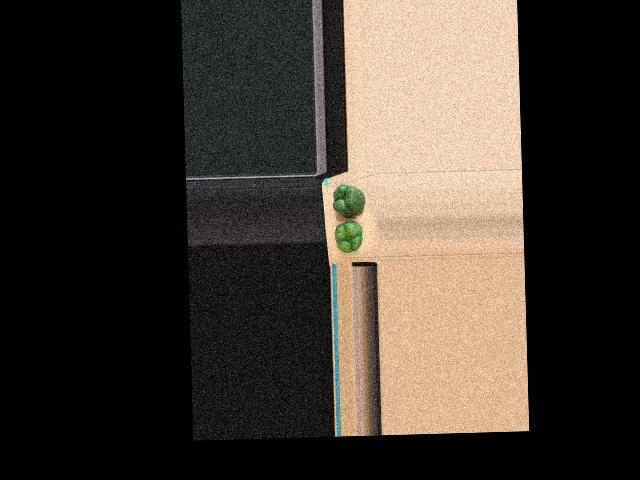bell_pepper: (333, 219, 367, 252)
